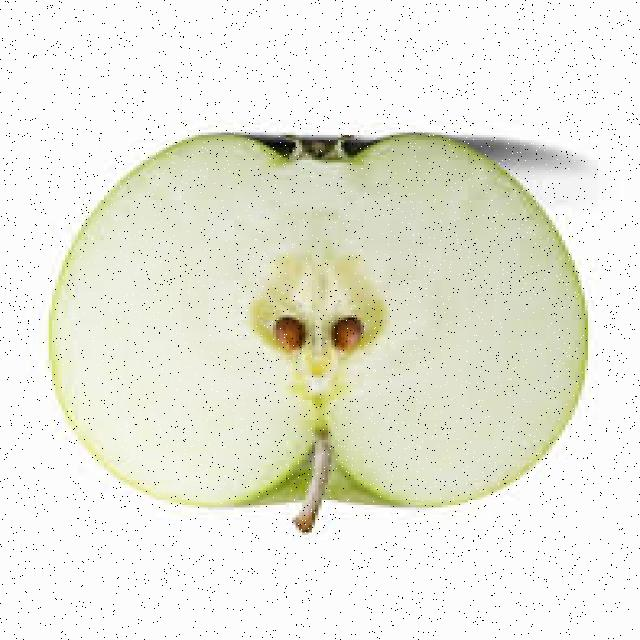Apple: (50, 130, 586, 507)
